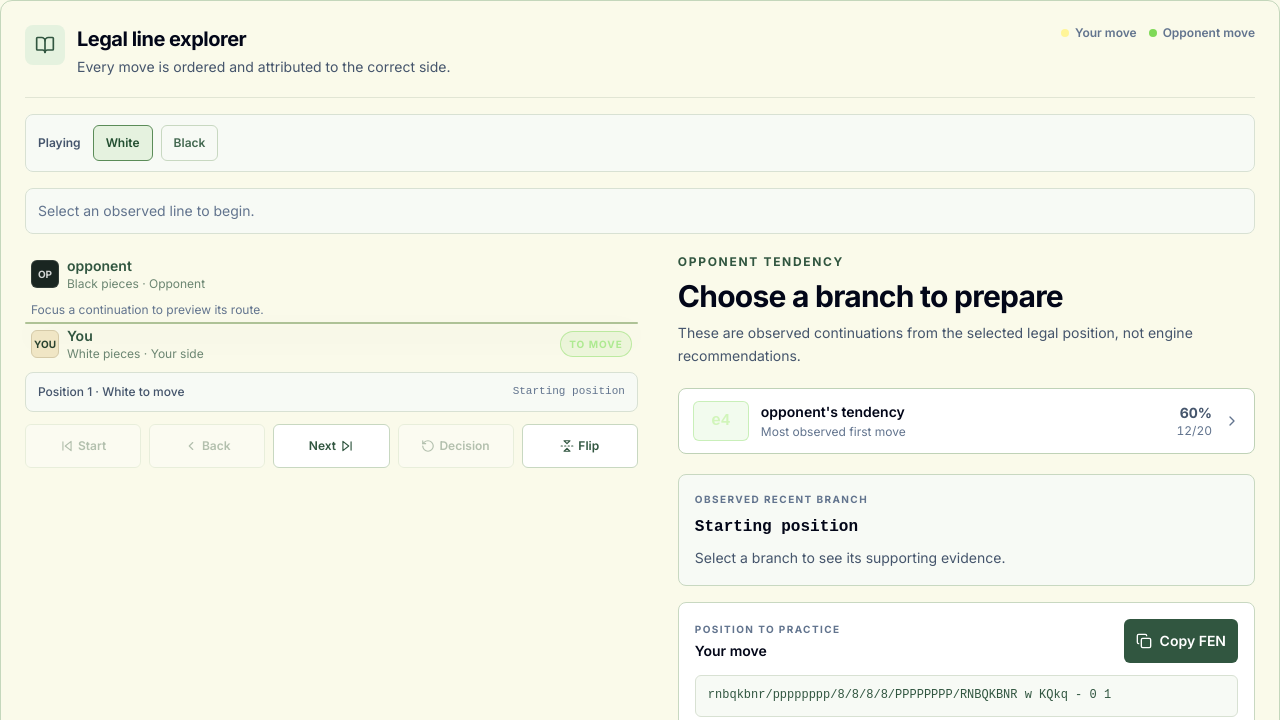
it: Legal Line Explorer › keeps both playing-color selections readable in the light explorer presentation
expect the button with aria-label "opponent's tendency: e4" is shown: met, box x1=678 y1=388 x2=1255 y2=454
Click the button "Black" at (190, 143), box x1=161 y1=125 x2=218 y2=161
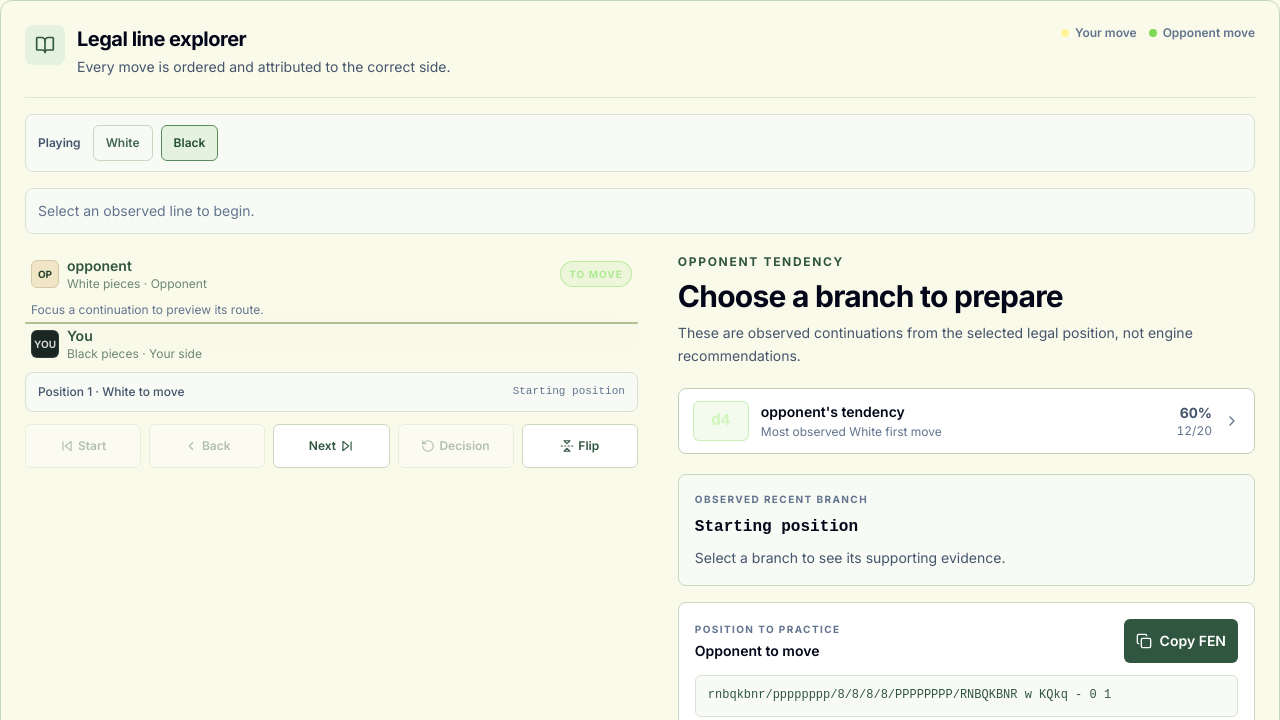
expect the button with aria-label "opponent's tendency: d4" is shown: met, box x1=678 y1=388 x2=1255 y2=454
